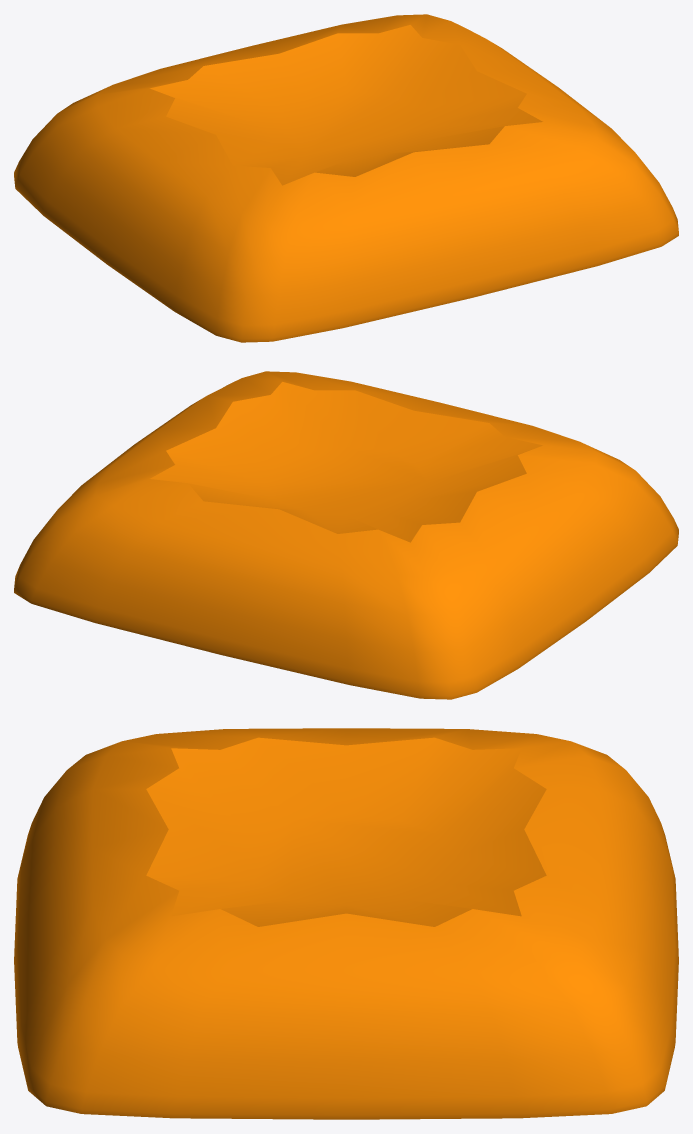
Rendered from dirt.fbx.
3 renders of one model, top to bottom at view 1: azimuth 30°, elevation 25°; view 2: azimuth 150°, elevation 25°; view 3: azimuth 270°, elevation 25°, orthographic. The views are drawn at different scales.
Visible parts, largest first — view 1: dirt; view 2: dirt; view 3: dirt.
Part boxes in pixels (left/top/right/bottom): dirt: left=14, top=14, right=678, bottom=342; dirt: left=14, top=371, right=678, bottom=699; dirt: left=14, top=728, right=678, bottom=1119.
Bounding box in the file's own units: 242 × 49.56 × 220.
